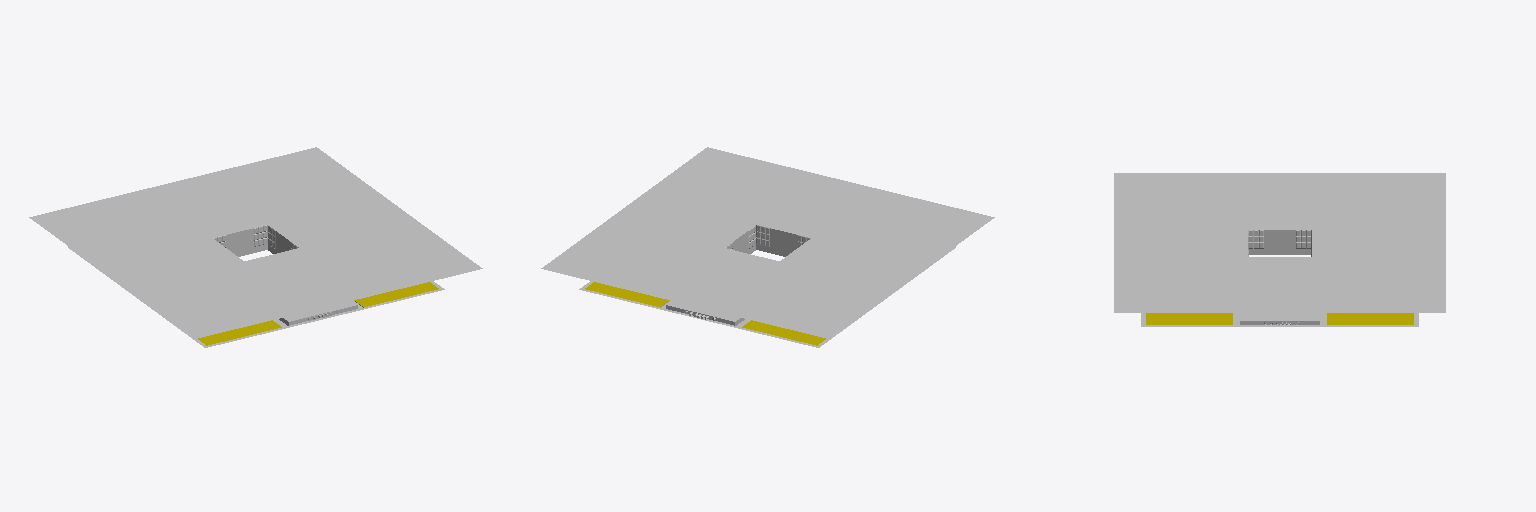
Rendered from WallNew_high.obj.
The picture shows the model from 3 angles: view 1: azimuth 30°, elevation 25°; view 2: azimuth 150°, elevation 25°; view 3: azimuth 270°, elevation 25°; orthographic projection.
Parts seen in each view (by area): view 1: Wall_high_Cube_Cube.001, Tiles_Cube_Cube.003; view 2: Wall_high_Cube_Cube.001, Tiles_Cube_Cube.003; view 3: Wall_high_Cube_Cube.001, Tiles_Cube_Cube.003.
Part boxes in pixels (bbox=[...]): Wall_high_Cube_Cube.001: bbox=[29, 147, 482, 347]; Tiles_Cube_Cube.003: bbox=[198, 282, 438, 345]; Wall_high_Cube_Cube.001: bbox=[541, 147, 994, 347]; Tiles_Cube_Cube.003: bbox=[585, 282, 825, 345]; Wall_high_Cube_Cube.001: bbox=[1114, 173, 1445, 326]; Tiles_Cube_Cube.003: bbox=[1146, 313, 1413, 324].
Size of the model in its own units: 2.4 by 0.205 by 2.4.